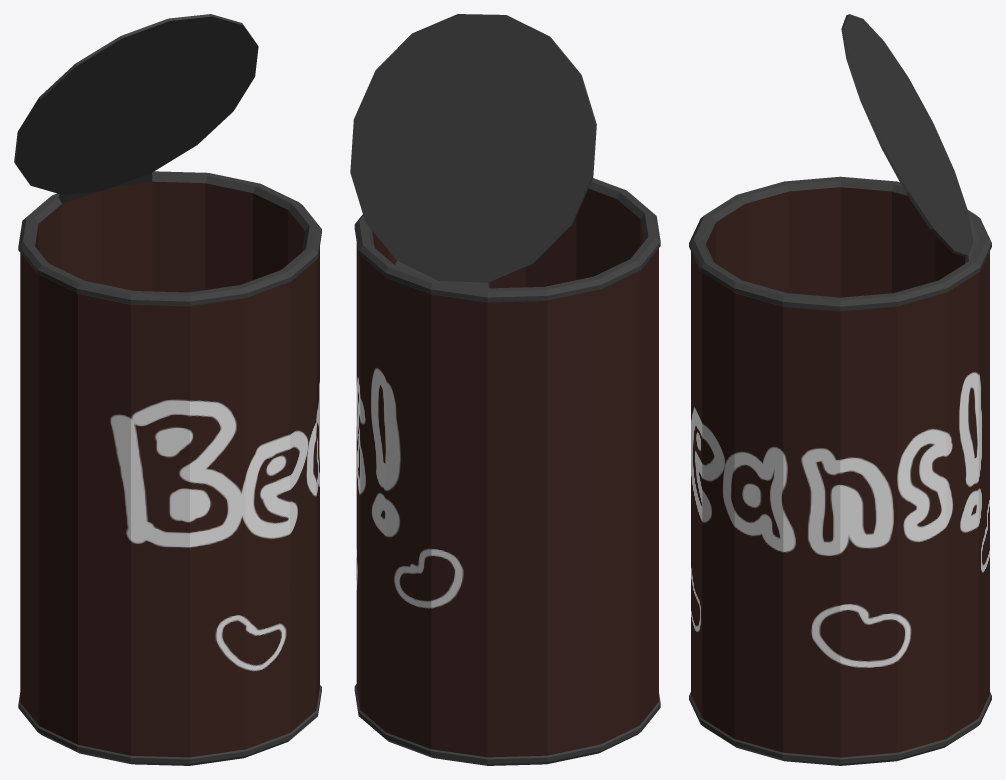
File: Can o beans.fbx
The picture shows the model from 3 angles, left to right: view 1: azimuth 30°, elevation 25°; view 2: azimuth 150°, elevation 25°; view 3: azimuth 270°, elevation 25°; orthographic projection.
Parts seen in each view (by area): view 1: Beans; view 2: Beans; view 3: Beans.
Boxes of the visible parts, <box> form: Beans: <box>14,14,321,765</box>; Beans: <box>350,14,660,765</box>; Beans: <box>689,14,991,765</box>.
Bounding box in the file's own units: 200 × 493 × 200.
